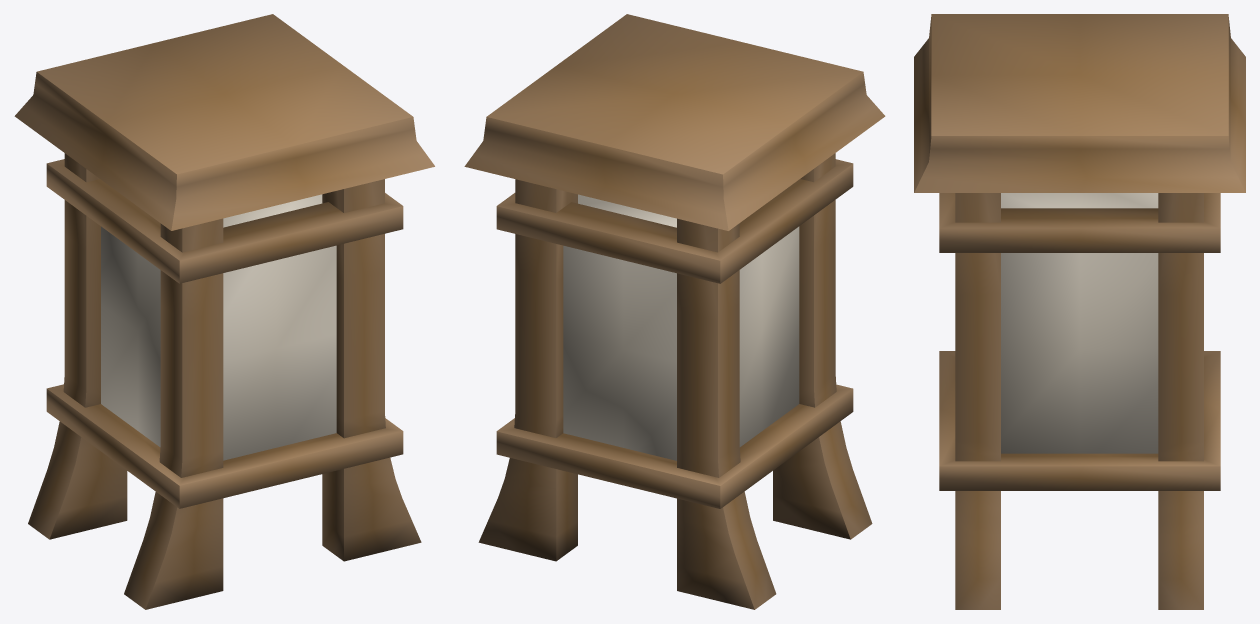
Rendered from prop_andon.glb.
3 renders of one model, left to right at view 1: azimuth 30°, elevation 25°; view 2: azimuth 150°, elevation 25°; view 3: azimuth 270°, elevation 25°, orthographic. The views are drawn at different scales.
Parts seen in each view (by area): view 1: refined; view 2: refined; view 3: refined.
Part boxes in pixels (left/top/right/bottom): refined: left=14, top=14, right=434, bottom=609; refined: left=464, top=14, right=885, bottom=609; refined: left=914, top=14, right=1245, bottom=609.
Bounding box in the file's own units: 0.8943 × 1.36 × 0.8802.
